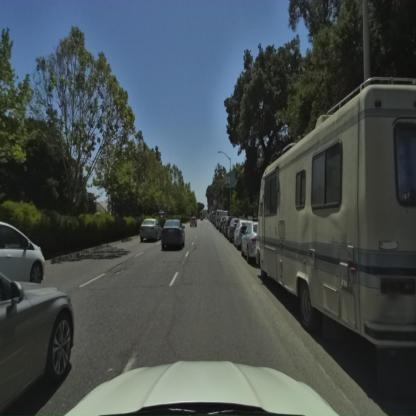bus: (254, 67, 416, 410)
car: (0, 240, 77, 416), (0, 221, 46, 284), (240, 220, 258, 265), (232, 220, 254, 251), (160, 226, 186, 251), (139, 218, 162, 242), (228, 220, 244, 245), (214, 210, 229, 232), (226, 217, 239, 242)
